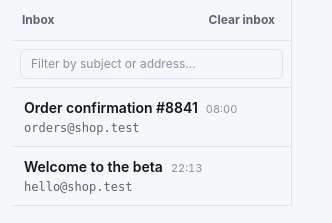
Test: EmailInbox › filters the list by sender address
Type "orders@shop.test" into the field with placeholder "Filter by subject or address…" at (152, 64), box [20, 49, 283, 79]
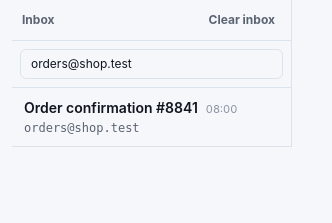
Expected: the text "Order confirmation #8841" is shown, [24, 98, 198, 118]
Expected: the button "Welcome to the beta" is gone
